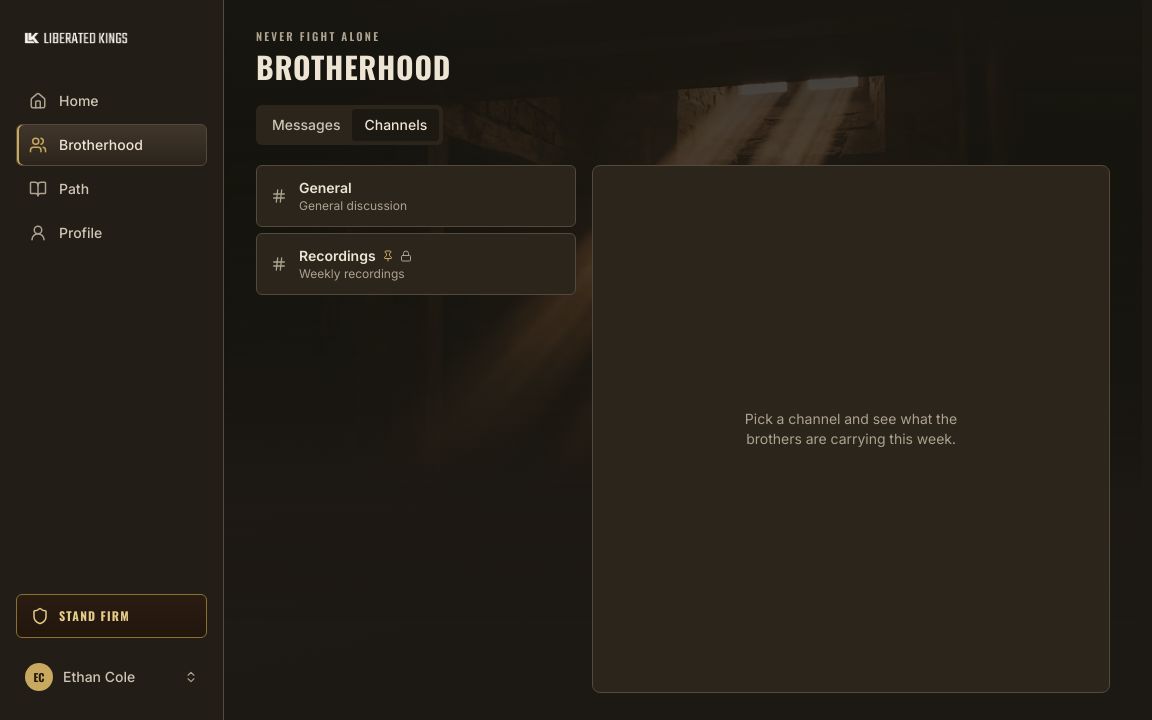
Test case: app navigation › brotherhood channels open a chat thread and embed pasted videos
Expected: the heading "Brotherhood" is shown, [256, 44, 451, 88]
Click the button "General General discussion".
click(325, 187)  # box [256, 164, 576, 226]
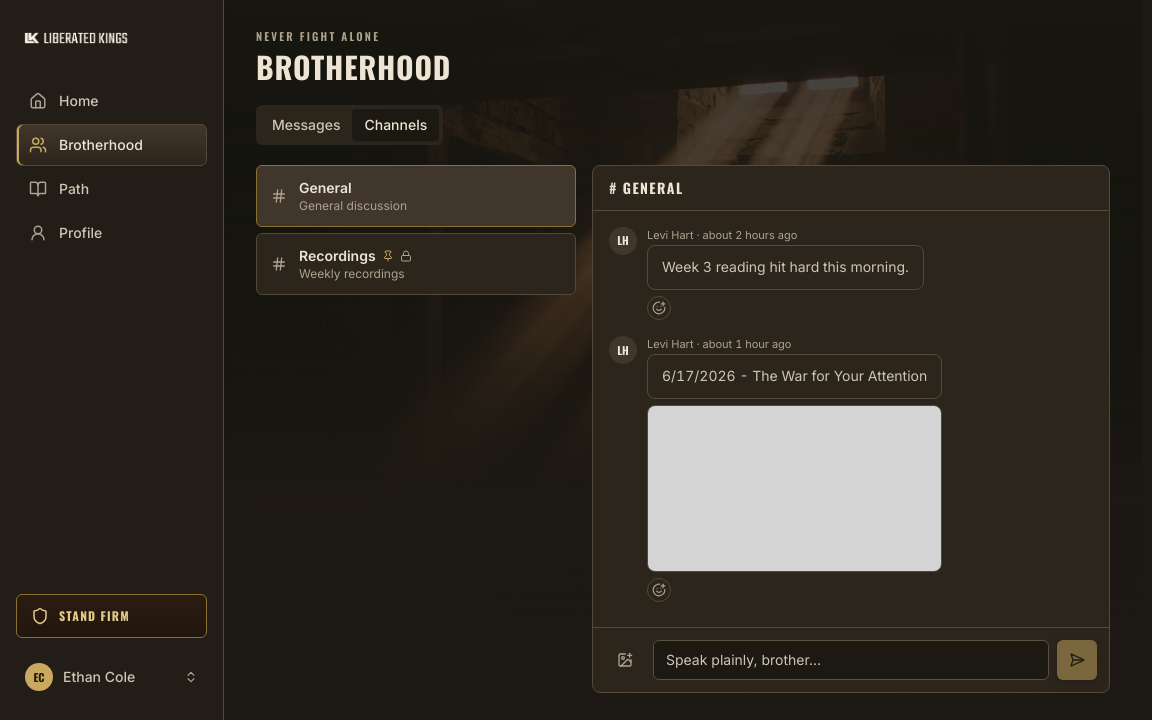
Expected: the text "Week 3 reading hit hard this morning." is shown, [662, 258, 909, 275]
